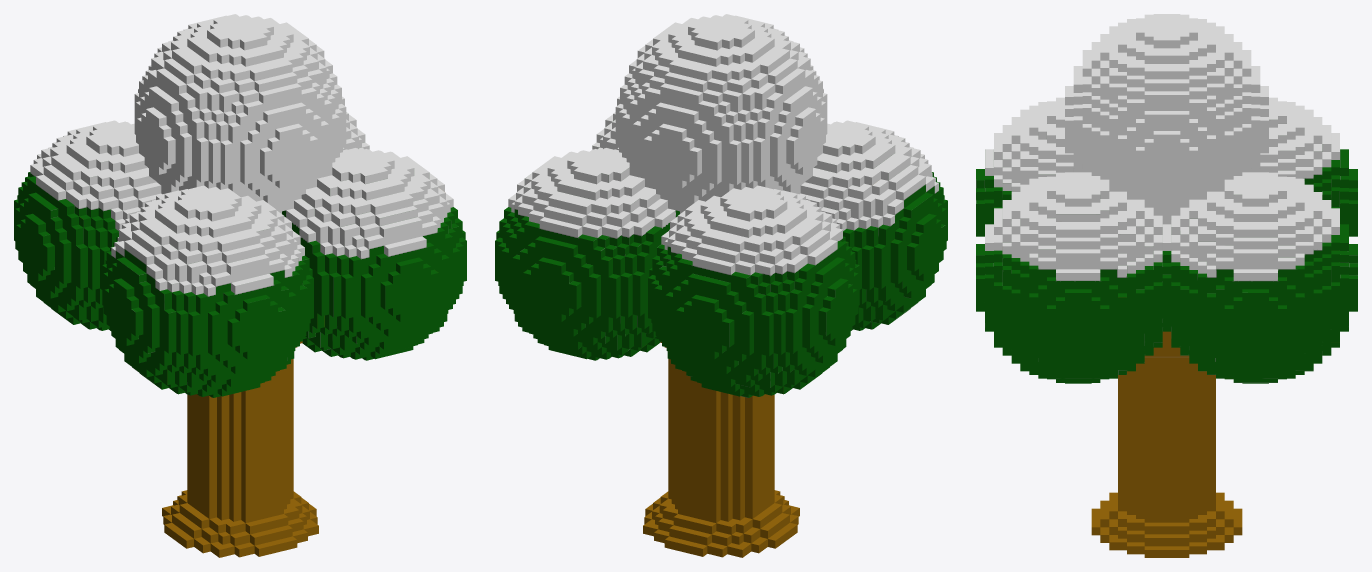
File: Winter Tree01-0.fbx
The picture shows the model from 3 angles, left to right: view 1: azimuth 30°, elevation 25°; view 2: azimuth 150°, elevation 25°; view 3: azimuth 270°, elevation 25°; orthographic projection.
Parts seen in each view (by area): view 1: Tree01-0, Tree01-1, Tree01-Stem, Tree01-Root; view 2: Tree01-0, Tree01-1, Tree01-Stem, Tree01-Root; view 3: Tree01-0, Tree01-1, Tree01-Stem, Tree01-Root.
Part boxes in pixels (x1,y1,x2,y2): Tree01-0: (14,112,466,397); Tree01-1: (134,14,346,191); Tree01-Stem: (187,359,293,522); Tree01-Root: (162,490,318,557); Tree01-0: (495,112,947,397); Tree01-1: (615,14,827,191); Tree01-Stem: (668,359,774,522); Tree01-Root: (643,490,799,557); Tree01-0: (976,97,1357,383); Tree01-1: (1065,14,1268,190); Tree01-Stem: (1118,357,1215,522); Tree01-Root: (1091,492,1242,557).
Bounding box in the file's own units: 430 × 620 × 430.
